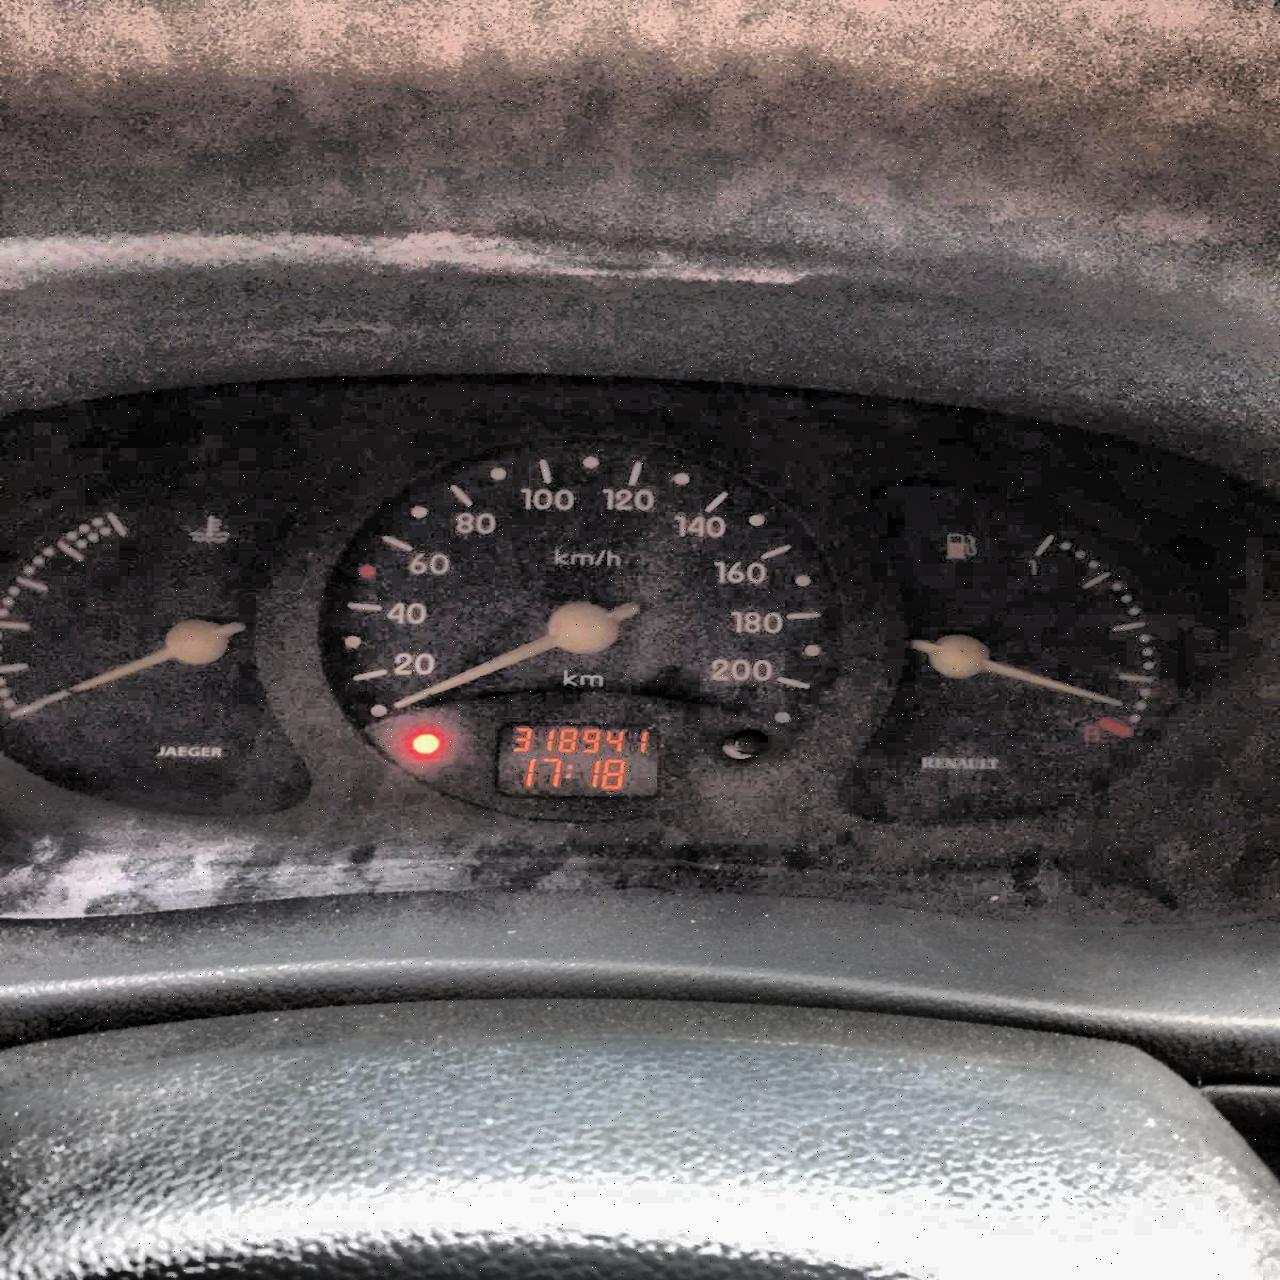1: (525, 758, 535, 787), (590, 760, 599, 787), (545, 728, 553, 751), (639, 731, 647, 753)
3: (512, 727, 532, 753)
4: (605, 730, 624, 751)
7: (540, 757, 561, 788)
8: (600, 758, 625, 789), (557, 728, 577, 753)
9: (581, 728, 599, 753)
X: (564, 763, 572, 778)
odometer: (490, 720, 668, 802)
